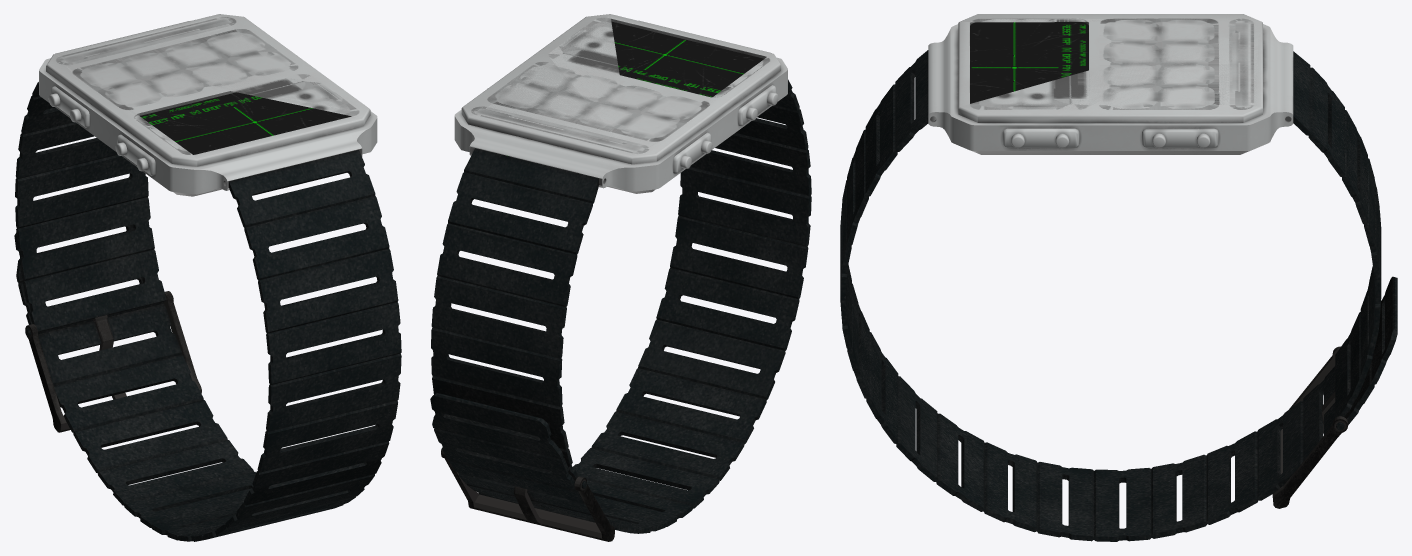
Rendered from CasseoWatch.fbx.
3 views of the same model, side by side, from view 1: azimuth 30°, elevation 25°; view 2: azimuth 150°, elevation 25°; view 3: azimuth 270°, elevation 25° (orthographic). The views are drawn at different scales.
Parts seen in each view (by area): view 1: Plane.002, Cube, Cube.002; view 2: Plane.002, Cube, Cube.002; view 3: Plane.002, Cube, Cube.002.
Part boxes in pixels (bbox=[...]): Plane.002: bbox=[14, 82, 401, 541]; Cube: bbox=[46, 14, 370, 166]; Cube.002: bbox=[39, 21, 377, 196]; Plane.002: bbox=[430, 79, 811, 541]; Cube: bbox=[461, 14, 780, 164]; Cube.002: bbox=[454, 20, 787, 193]; Plane.002: bbox=[840, 50, 1397, 541]; Cube: bbox=[958, 14, 1262, 122]; Cube.002: bbox=[928, 24, 1293, 154].
Size of the model in its own units: 313 by 558 by 635.
